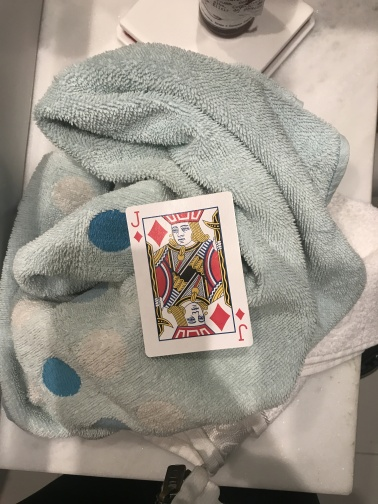jack: (124, 190, 253, 358)
